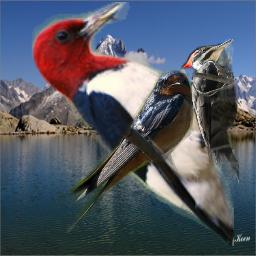Swallow: (66, 70, 194, 233)
Woodpecker: (29, 2, 234, 246), (181, 39, 239, 185)
